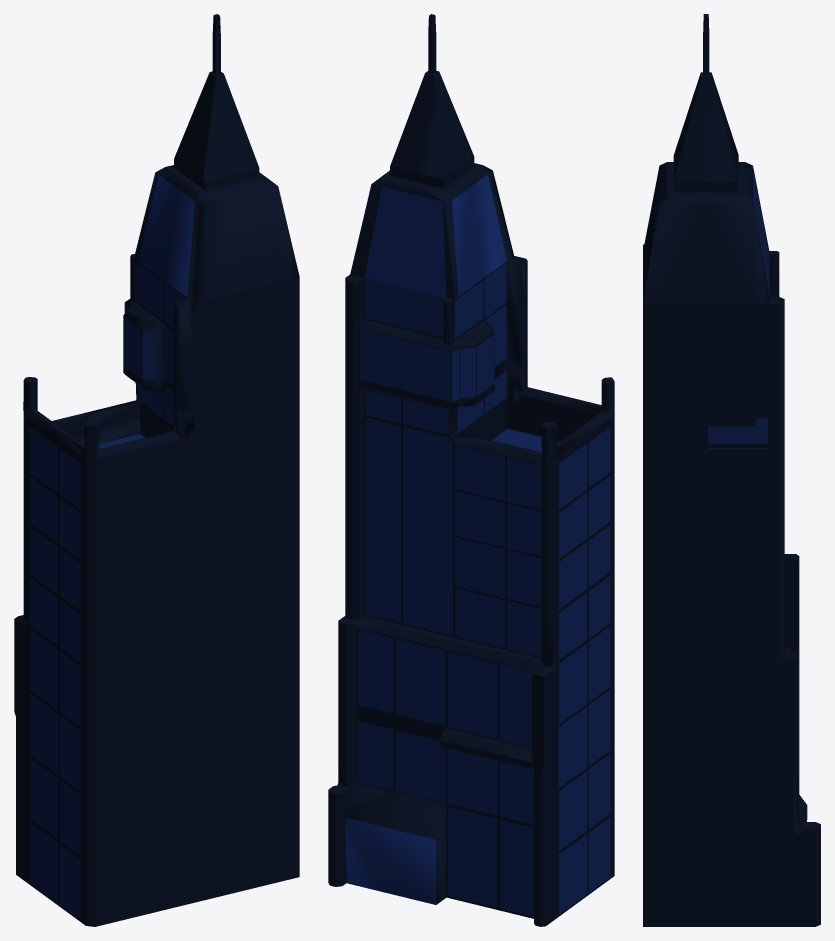
The model's file is BUILDING_Tex2.glb.
3 renders of one model, left to right at view 1: azimuth 30°, elevation 25°; view 2: azimuth 150°, elevation 25°; view 3: azimuth 270°, elevation 25°, orthographic. The views are drawn at different scales.
Visible parts, largest first — view 1: Cube; view 2: Cube; view 3: Cube.
Boxes of the visible parts, box(x1,y1,x2,y2) form: Cube: box(14, 14, 299, 926); Cube: box(328, 14, 614, 926); Cube: box(643, 14, 820, 926).
Size of the model in its own units: 54.7 by 211 by 38.46.
